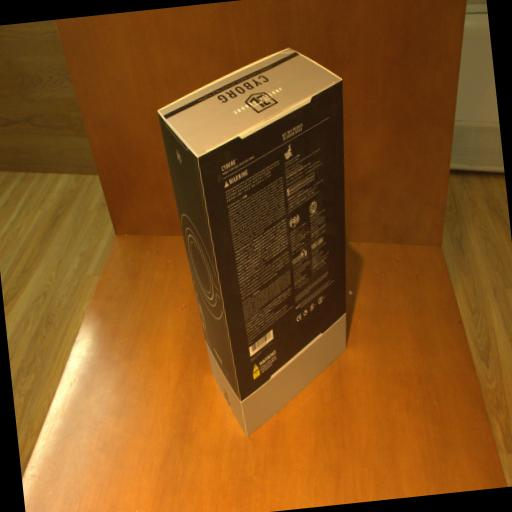Cyborg: (154, 42, 378, 440)
